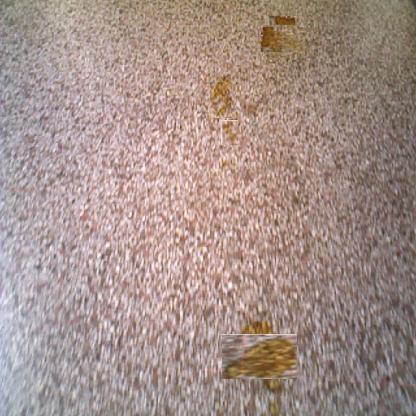liquid: (229, 327, 290, 387), (265, 20, 301, 56), (210, 74, 236, 118), (221, 120, 238, 145), (268, 396, 284, 416)
